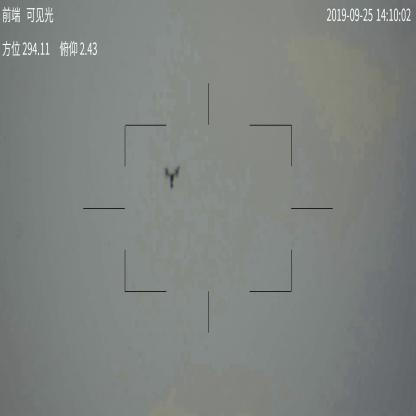uav: (164, 162, 180, 190)
